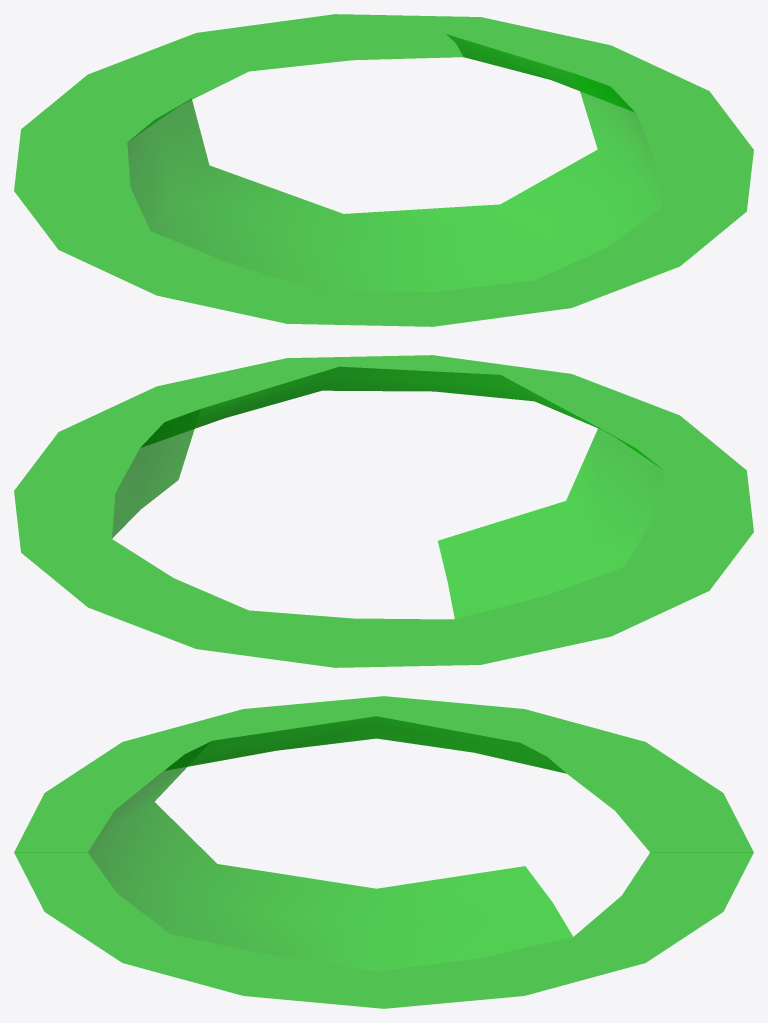
The model's file is dummy_past2.gltf.
3 renders of one model, top to bottom at view 1: azimuth 30°, elevation 25°; view 2: azimuth 150°, elevation 25°; view 3: azimuth 270°, elevation 25°, orthographic.
Parts seen in each view (by area): view 1: dummy_past2; view 2: dummy_past2; view 3: dummy_past2.
Part boxes in pixels (x1,y1,x2,y2): dummy_past2: [14, 14, 753, 326]; dummy_past2: [14, 355, 753, 667]; dummy_past2: [14, 696, 753, 1008].
Bounding box in the file's own units: 0.8994 × 0.0718 × 0.8994.
